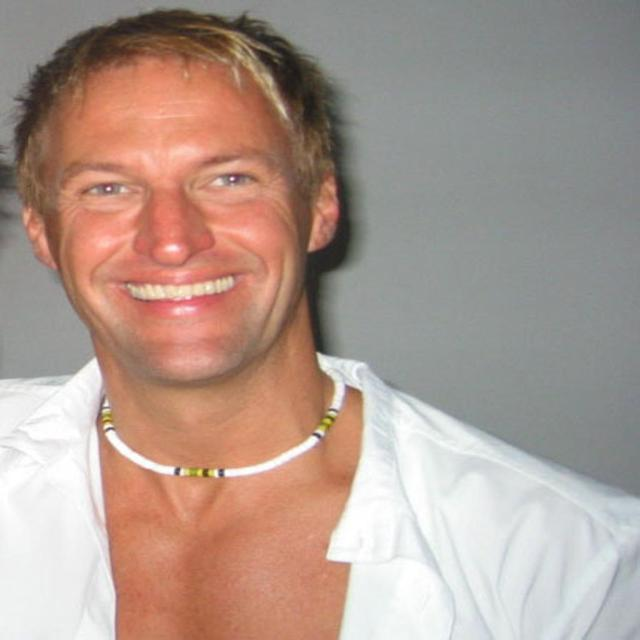Face: (23, 45, 314, 392)
